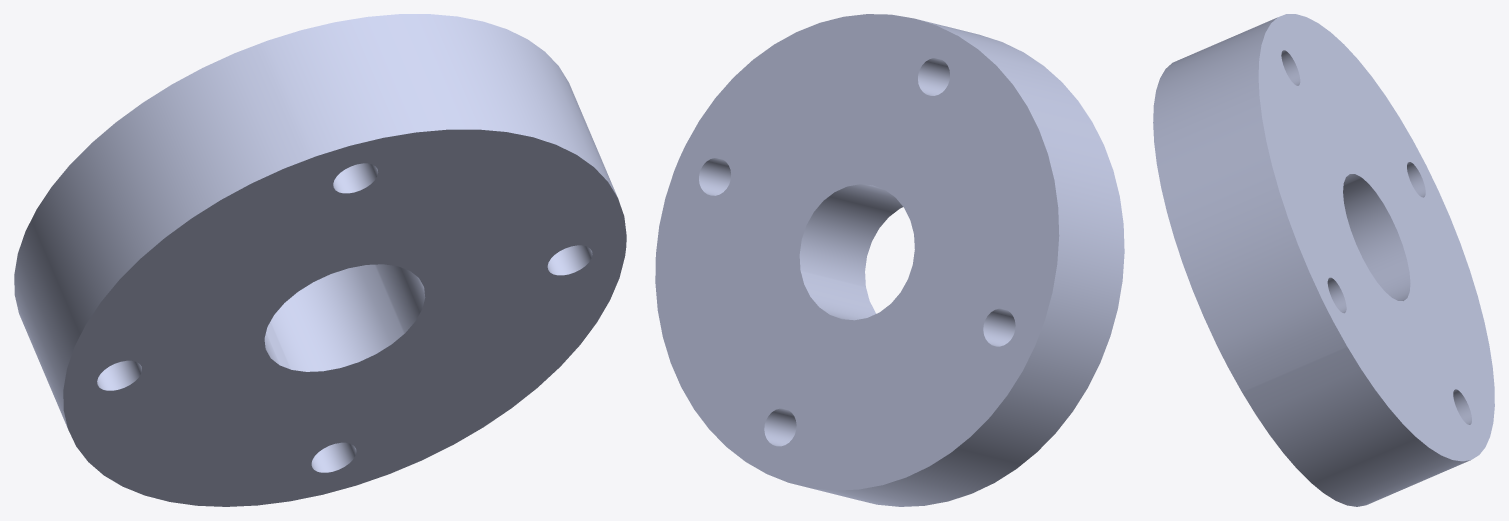
Rendered from c_3_robot_export_clean__rx28_disc_1_2.dae.
3 renders of one model, left to right at view 1: azimuth 30°, elevation 25°; view 2: azimuth 150°, elevation 25°; view 3: azimuth 270°, elevation 25°, orthographic. The views are drawn at different scales.
Parts seen in each view (by area): view 1: node0; view 2: node0; view 3: node0.
Boxes of the visible parts, x1=… form: node0: x1=14, y1=14, x2=626, y2=506; node0: x1=655, y1=14, x2=1124, y2=506; node0: x1=1153, y1=14, x2=1494, y2=506.
Size of the model in its own units: 0.0205 by 0.02 by 0.0141.
